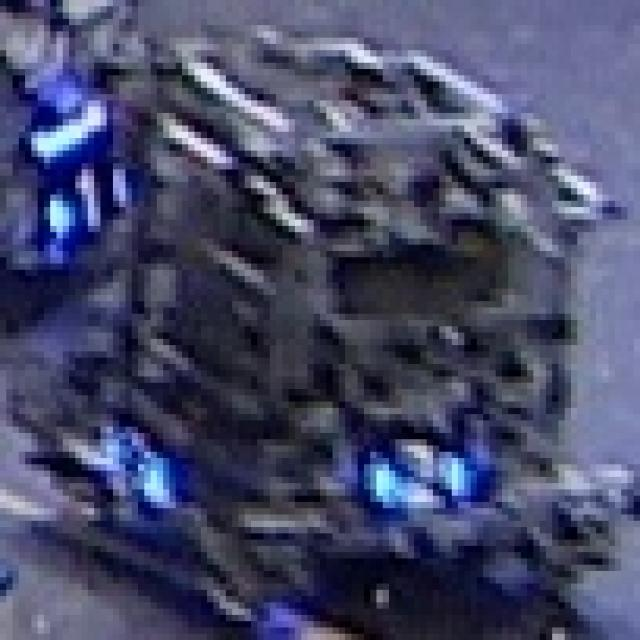B1: (25, 150, 138, 244)
B2: (345, 427, 471, 508)
